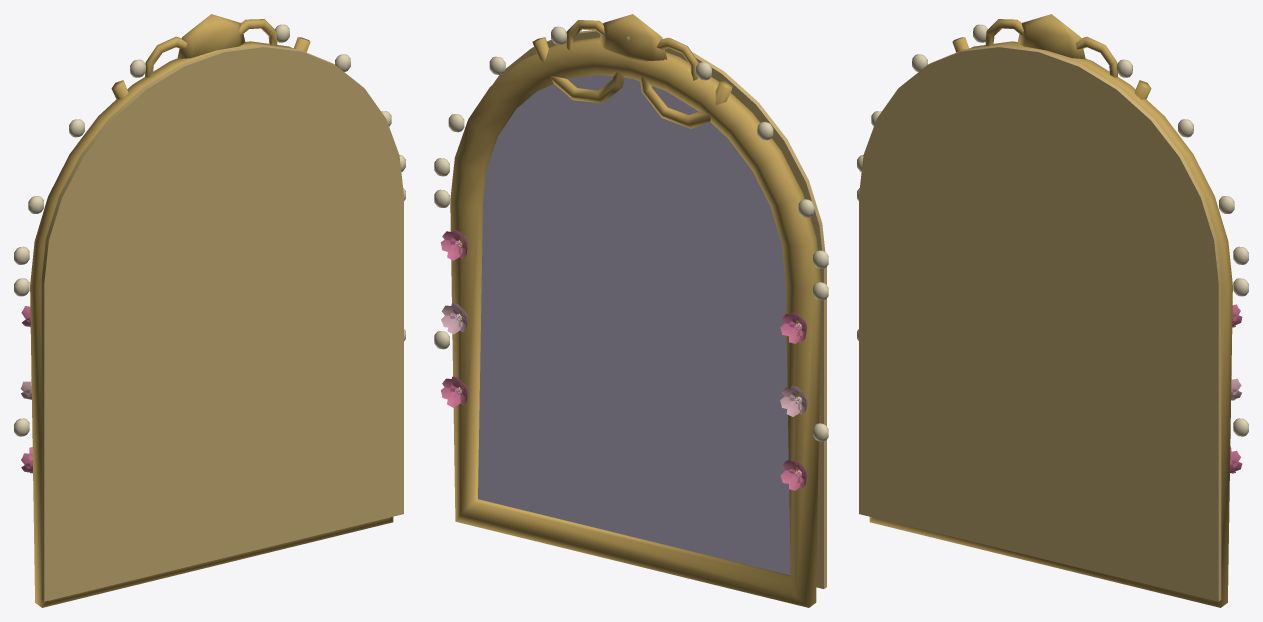
Rendered from vanity_mirror.glb.
The picture shows the model from 3 angles, left to right: view 1: azimuth 30°, elevation 25°; view 2: azimuth 150°, elevation 25°; view 3: azimuth 330°, elevation 25°; orthographic projection.
Parts seen in each view (by area): view 1: vanity_mirror; view 2: vanity_mirror; view 3: vanity_mirror.
Part boxes in pixels (x1=…): vanity_mirror: x1=14, y1=14, x2=405, y2=607; vanity_mirror: x1=434, y1=14, x2=828, y2=607; vanity_mirror: x1=857, y1=14, x2=1248, y2=607.
Size of what is drawn, in the model's own units: 1.2 by 1.6 by 0.12.
